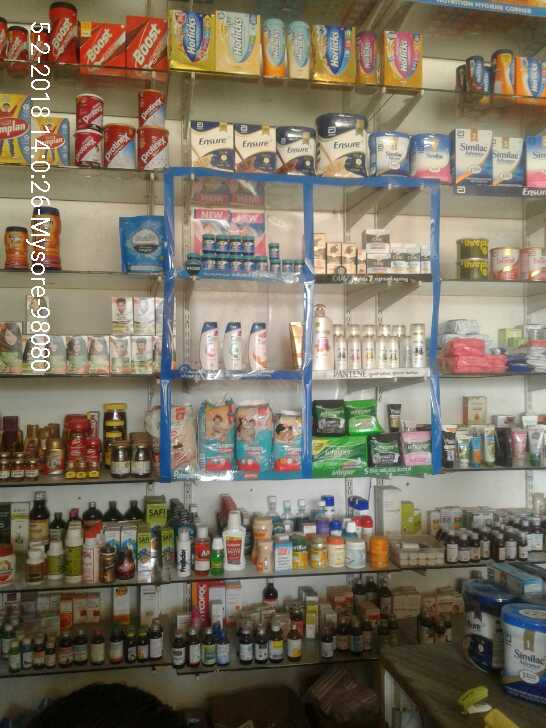beauty: (307, 300, 338, 372), (223, 317, 244, 372), (199, 319, 220, 370), (247, 324, 268, 368), (332, 322, 347, 370), (412, 320, 426, 370), (347, 322, 361, 368), (362, 324, 374, 369), (384, 334, 399, 370), (376, 332, 385, 368)
pharmacy: (199, 402, 235, 472), (235, 407, 273, 471), (312, 437, 368, 468), (272, 411, 301, 470), (399, 430, 432, 464), (347, 400, 380, 432), (314, 400, 344, 428), (370, 436, 397, 467), (199, 233, 217, 253), (200, 255, 219, 271), (227, 232, 241, 253), (240, 236, 257, 253), (267, 237, 280, 259), (217, 233, 230, 251), (242, 257, 256, 272), (270, 260, 282, 277), (256, 257, 269, 272), (231, 258, 244, 273), (216, 254, 228, 270), (293, 258, 303, 273), (283, 257, 292, 272)
